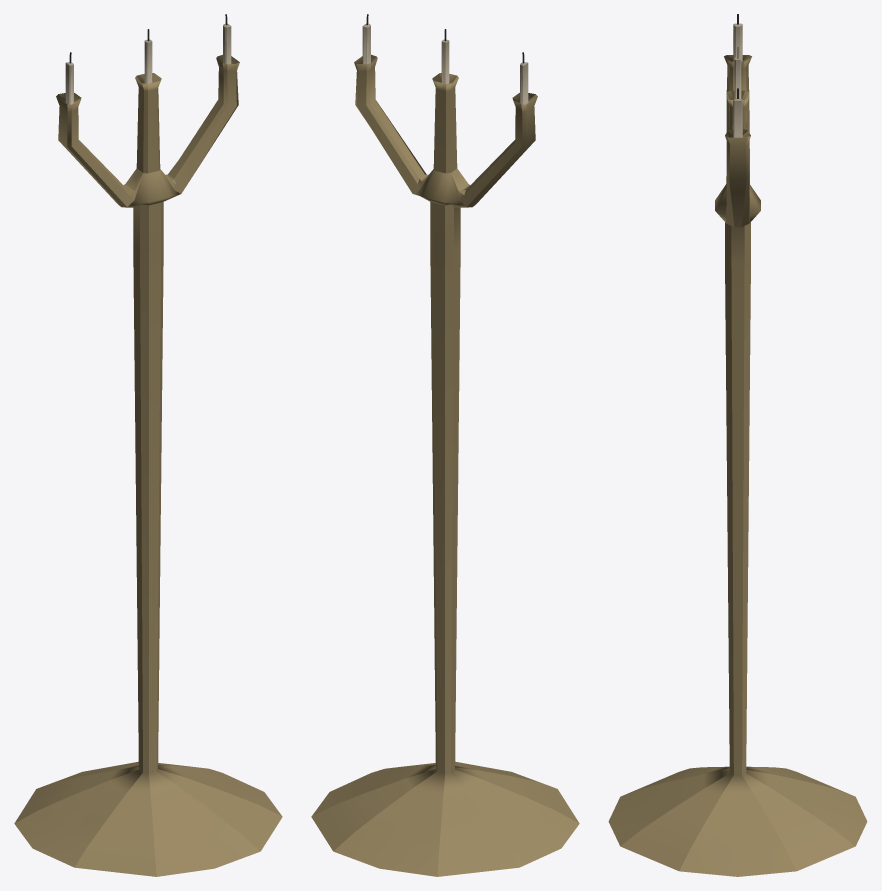
Rendered from candlestick_mesh.fbx.
3 renders of one model, left to right at view 1: azimuth 30°, elevation 25°; view 2: azimuth 150°, elevation 25°; view 3: azimuth 270°, elevation 25°, orthographic. The views are drawn at different scales.
Visible parts, largest first — view 1: pCube1; view 2: pCube1; view 3: pCube1.
Part boxes in pixels (x1=…): pCube1: x1=14, y1=14, x2=282, y2=876; pCube1: x1=311, y1=14, x2=579, y2=876; pCube1: x1=608, y1=14, x2=867, y2=876.
Size of the model in its own units: 0.6053 by 1.97 by 0.5981.
